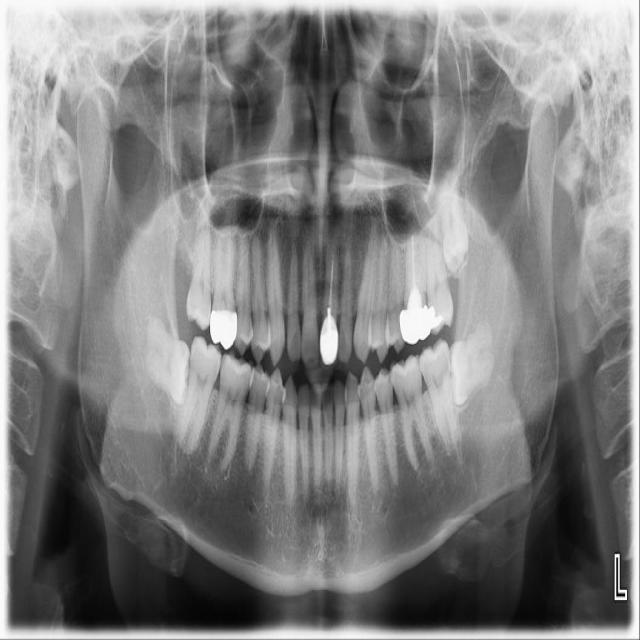Crown: (399, 298, 431, 344), (209, 307, 237, 350), (320, 317, 339, 369)
Filling: (427, 299, 451, 333)
Root Canal Treatment: (329, 241, 334, 304), (411, 240, 414, 281)
impacted tooth: (448, 317, 498, 401), (436, 164, 474, 272), (142, 320, 191, 398)
